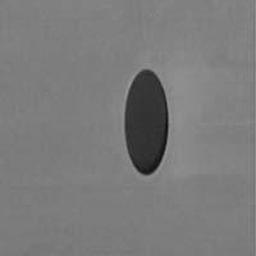Punching: (124, 68, 170, 175)
